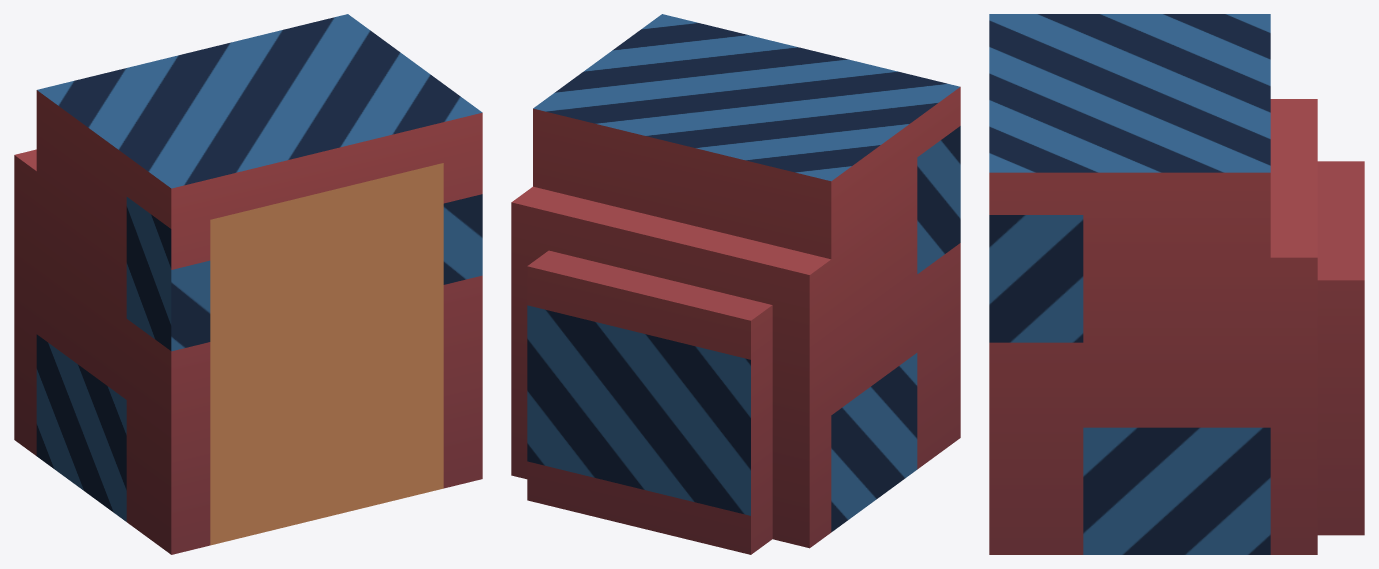
File: PartD.fbx
3 renders of one model, left to right at view 1: azimuth 30°, elevation 25°; view 2: azimuth 150°, elevation 25°; view 3: azimuth 270°, elevation 25°, orthographic. The views are drawn at different scales.
Visible parts, largest first — view 1: PartD; view 2: PartD; view 3: PartD.
Boxes of the visible parts, left/top/right/bottom form: PartD: left=14, top=14, right=482, bottom=554; PartD: left=511, top=14, right=960, bottom=554; PartD: left=989, top=14, right=1364, bottom=554.
Size of the model in its own units: 80 by 90 by 80.
